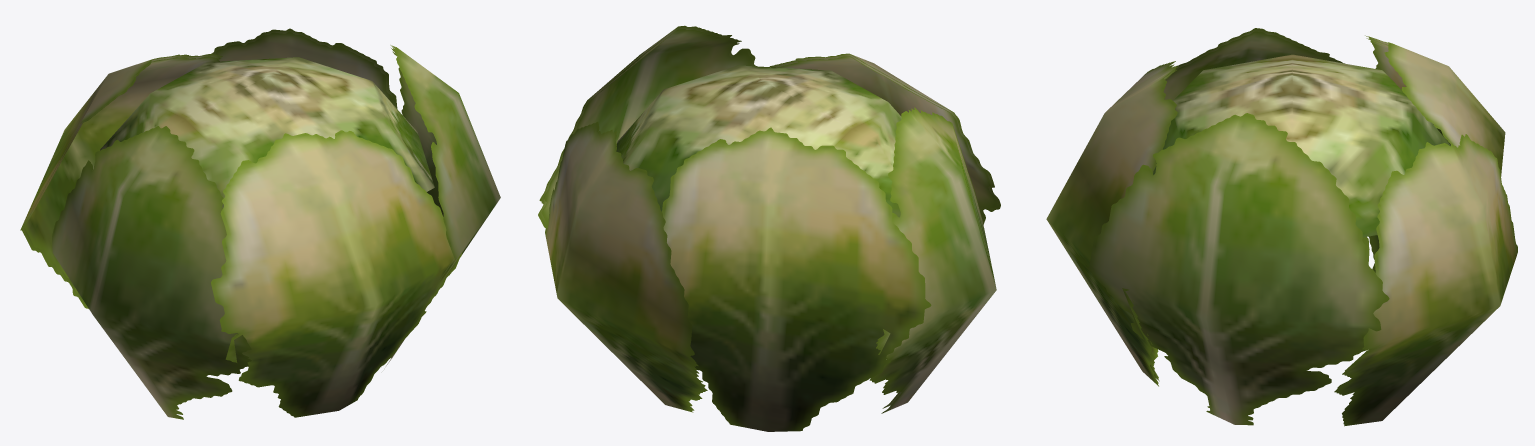
The model's file is FarmPlants01_grow.FBX.
The picture shows the model from 3 angles, left to right: view 1: azimuth 30°, elevation 25°; view 2: azimuth 150°, elevation 25°; view 3: azimuth 270°, elevation 25°; orthographic projection. The views are drawn at different scales.
Parts seen in each view (by area): view 1: FarmPlants01_grow; view 2: FarmPlants01_grow; view 3: FarmPlants01_grow.
Part boxes in pixels (x1=…): FarmPlants01_grow: x1=20, y1=28, x2=500, y2=419; FarmPlants01_grow: x1=538, y1=25, x2=1000, y2=431; FarmPlants01_grow: x1=1046, y1=28, x2=1517, y2=426.
Size of the model in its own units: 41.67 by 30.7 by 39.31.
Materials: 1 (1 with a texture image).
